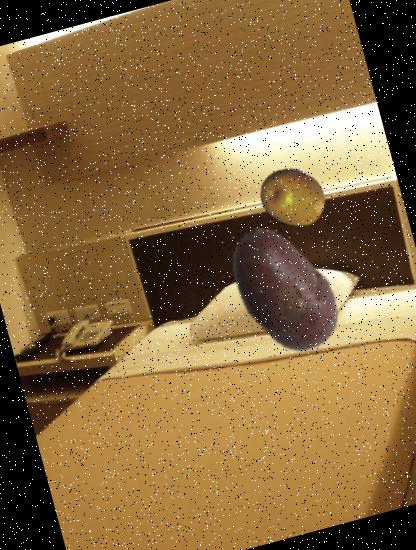Kumquats: (252, 156, 336, 238)
Potato: (199, 207, 367, 374)
